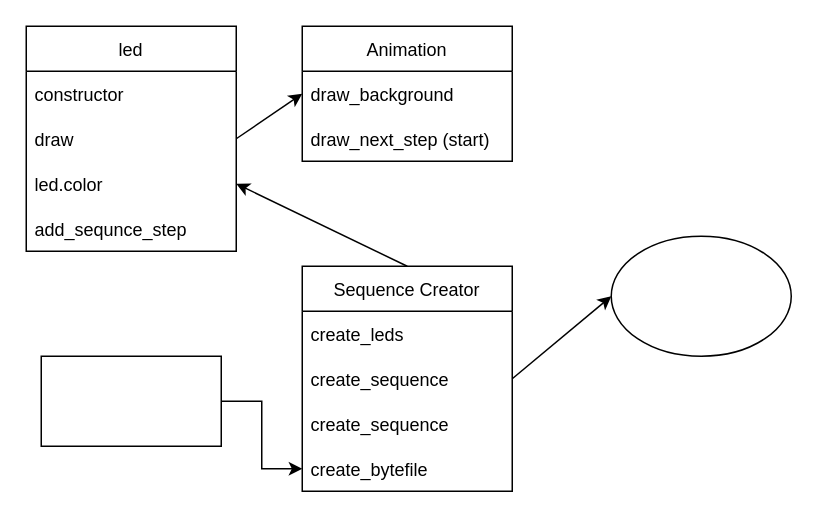
Some shapes in this 818 by 518 pixel diagram are drawn without their labels. Each missing label, with the box of its shape:
bytefile: (610, 235, 791, 356)
main: (40, 355, 221, 446)
